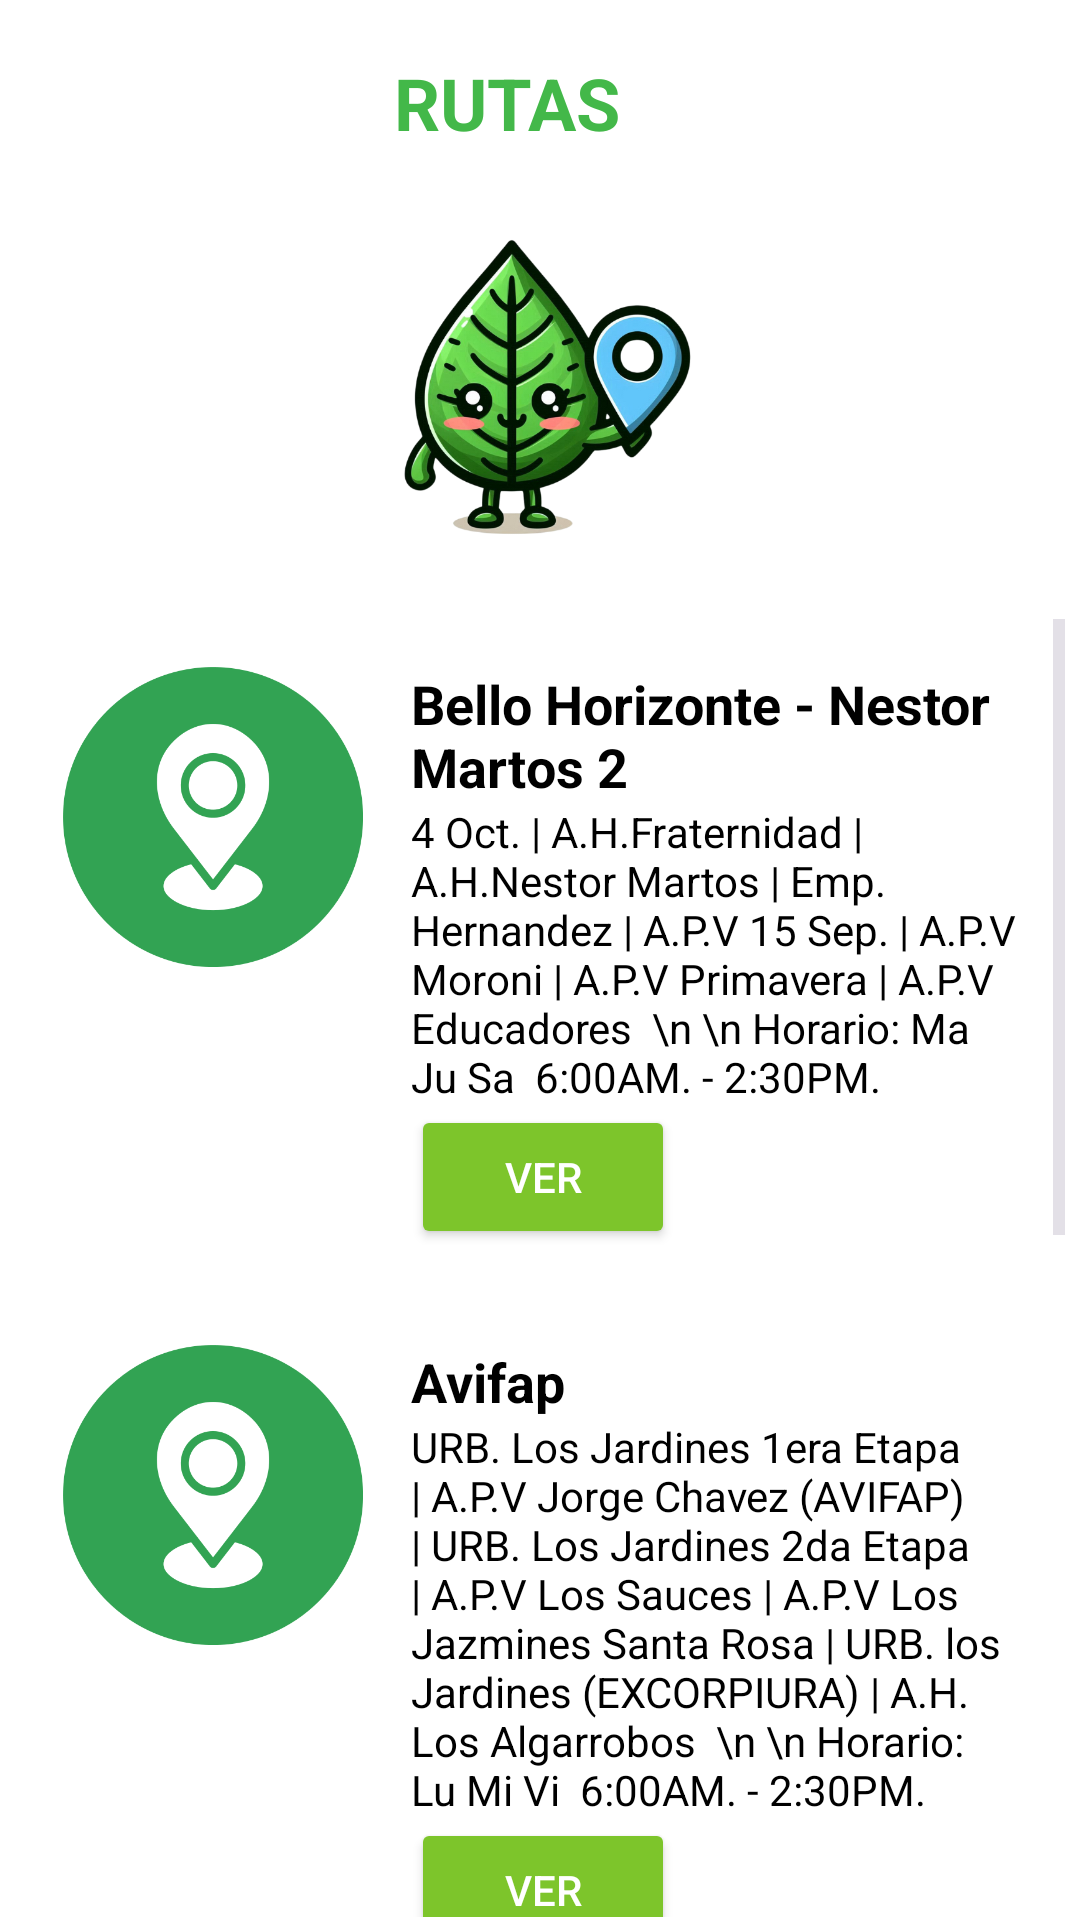

Named icons in this screenshot (1080 x 1920) and their centers, [x,y]:
rutavector: [213,817], [213,1495]
